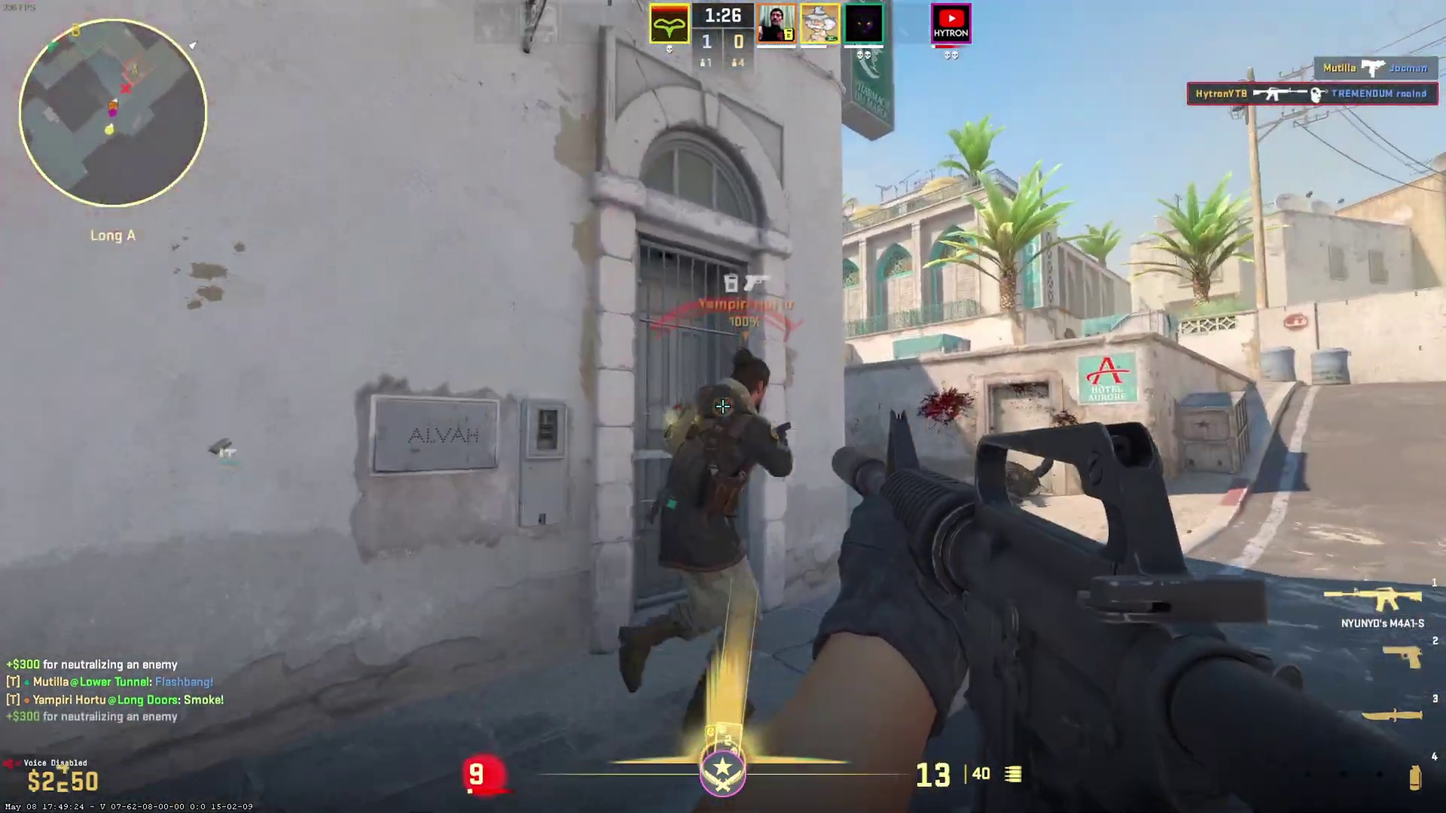Terrorist: (626, 348, 775, 728)
